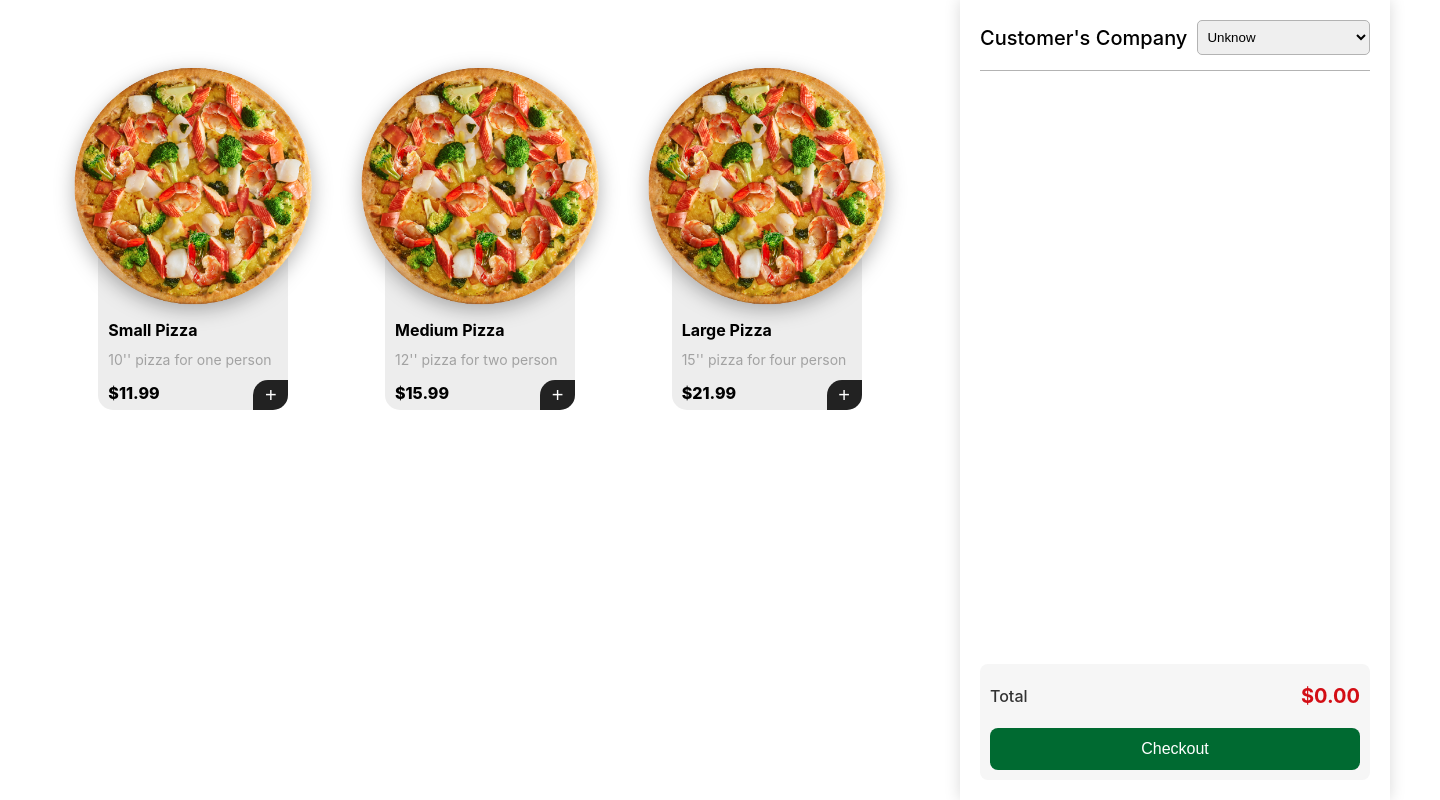
Test: empty spec › Default customer should be checked out by normal pricing calculation
The image size is (1440, 800).
Click the button with id "addToCheckout": (271,395) [253,380,288,410]
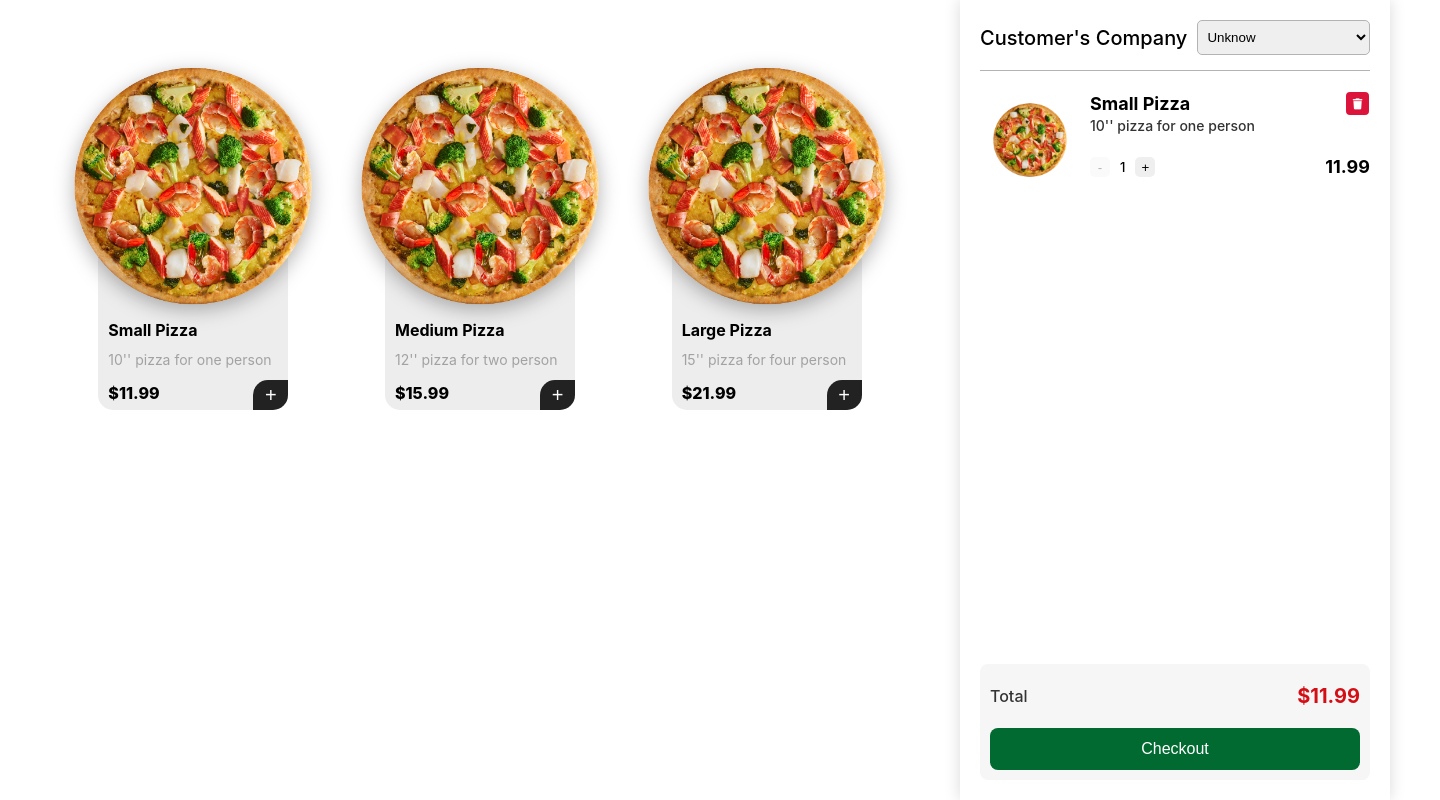
Click the button with id "addToCheckout": (558,395) [540,380,575,410]
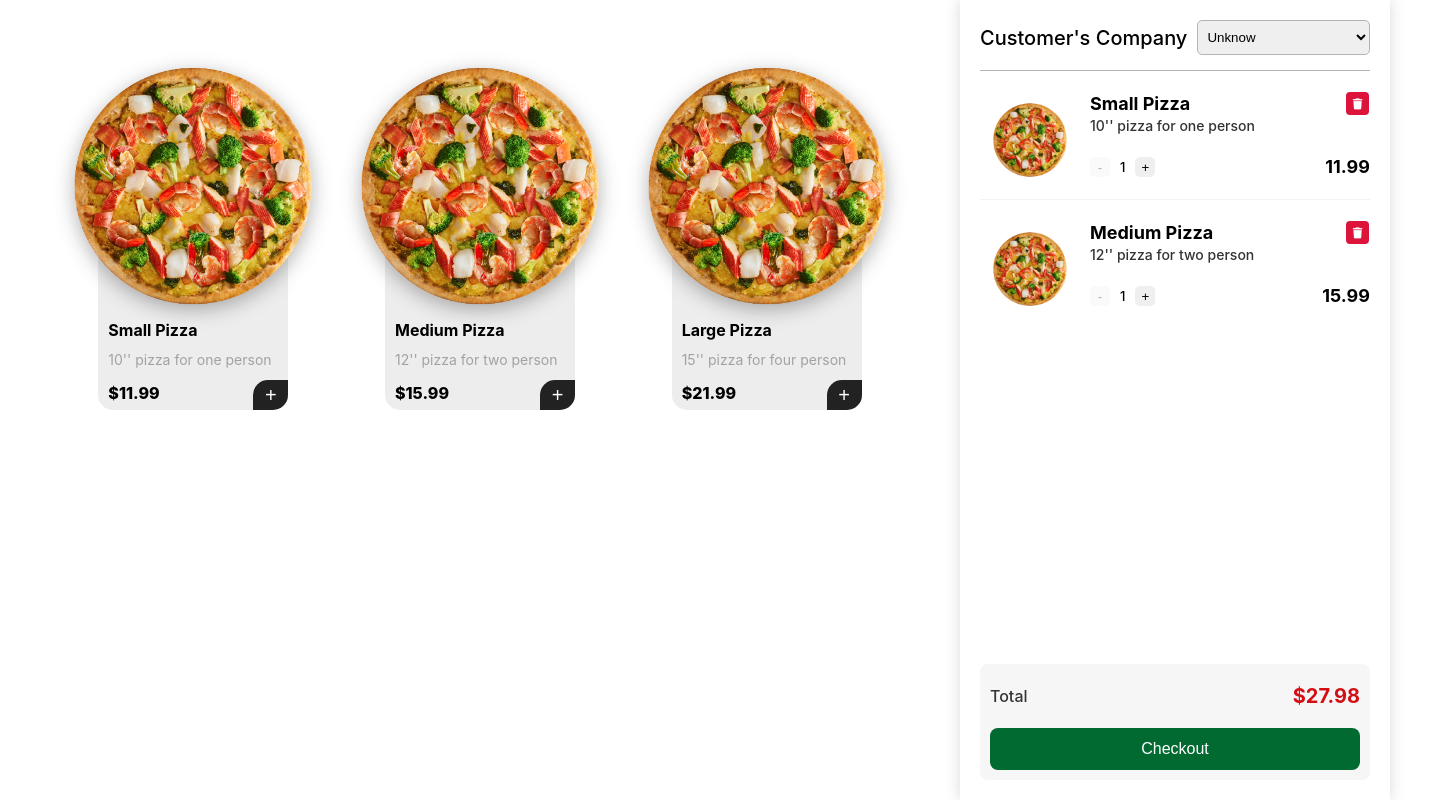
Click the button with id "addToCheckout": (845,395) [827,380,862,410]
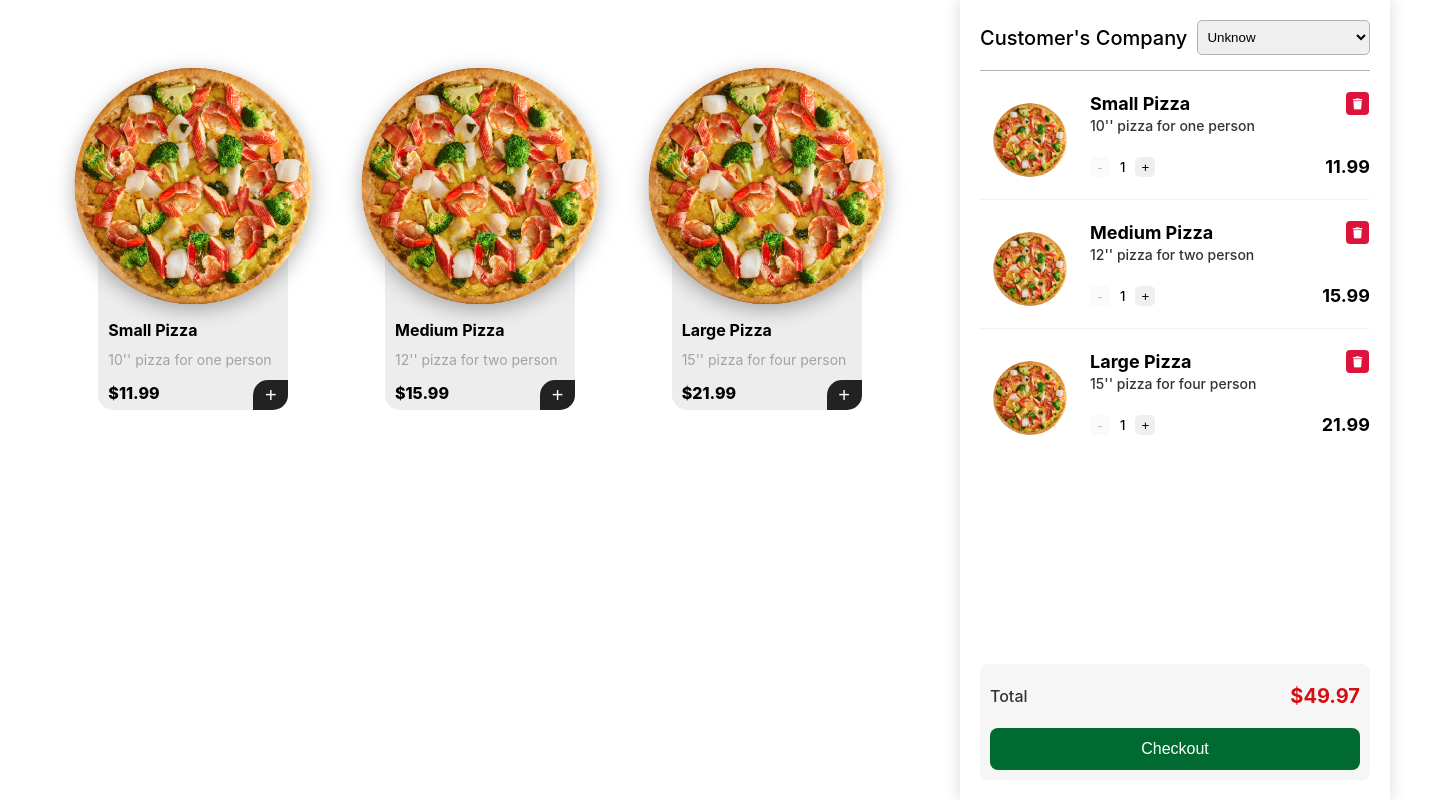
expect the text with id "totalPrice" reads "$49.97": met, box [1290,684,1360,708]
